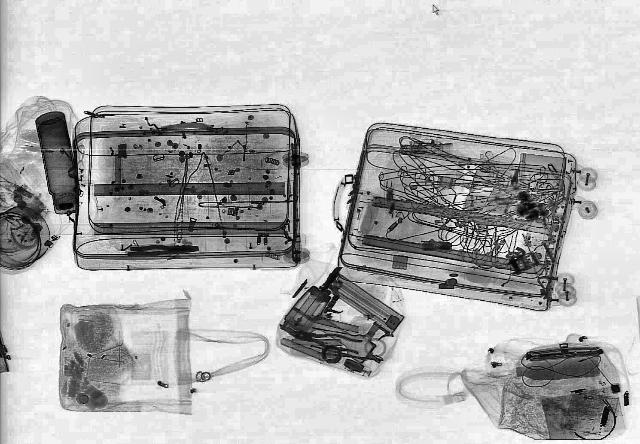Pliers: (288, 325, 366, 355), (125, 243, 198, 257)
